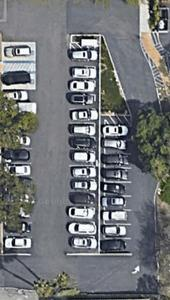parkingspot: (67, 41, 102, 255), (98, 125, 133, 255), (0, 129, 38, 181), (0, 71, 38, 115), (0, 213, 35, 257), (1, 41, 37, 62)
